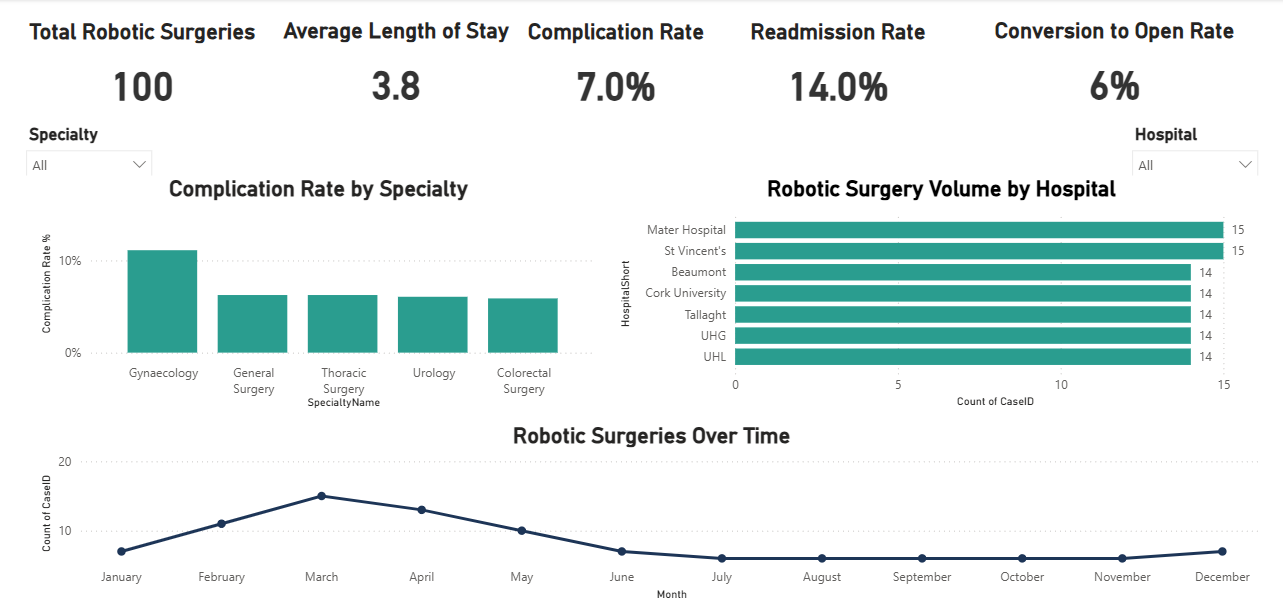

The dashboard page shown, as its layout file describes it:
{"tool":"powerbi","page":{"name":"Executive Overview","canvas":[1280,600],"ordinal":0},"visuals":[{"type":"advanceCardE03760C5AB684758B56AA29F9E6C257B","title":"Total Robotic Surgeries","fields":{"mainMeasure":["CountNonNull(robotic_surgery_dashboard_dataset.CaseID)"]},"box":[20.2,20.2,250.2,109.9],"z":0},{"type":"advanceCardE03760C5AB684758B56AA29F9E6C257B","title":"Average Length of Stay","fields":{"mainMeasure":["Avg(robotic_surgery_dashboard_dataset.LengthOfStayDays)"]},"box":[278.9,19,236.3,109.9],"z":1000},{"type":"advanceCardE03760C5AB684758B56AA29F9E6C257B","title":"Readmission Rate","fields":{"mainMeasure":["robotic_surgery_dashboard_dataset.Readmission Rate %"]},"box":[714.3,19.8,239.8,110],"z":2000},{"type":"advanceCardE03760C5AB684758B56AA29F9E6C257B","title":"Conversion to Open Rate","fields":{"mainMeasure":["robotic_surgery_dashboard_dataset.Conversion to Open Rate %"],"tooltipMeasures":["robotic_surgery_dashboard_dataset.Conversion to Open Rate %"]},"box":[936.2,18.8,343.8,110],"z":3000},{"type":"clusteredBarChart","title":"Robotic Surgery Volume by Hospital","fields":{"Y":["CountNonNull(robotic_surgery_dashboard_dataset.CaseID)"],"Category":["robotic_surgery_dashboard_dataset.HospitalShort"]},"box":[613,175,647,234],"z":4000},{"type":"clusteredColumnChart","title":"Complication Rate by Specialty","fields":{"Category":["robotic_surgery_dashboard_dataset.SpecialtyName"],"Y":["robotic_surgery_dashboard_dataset.Complication Rate %"]},"box":[40,175,560,235],"z":5000},{"type":"lineChart","title":"Robotic Surgeries Over Time","fields":{"Y":["CountNonNull(robotic_surgery_dashboard_dataset.CaseID)"],"Category":["robotic_surgery_dashboard_dataset.SurgeryDate.Variation.Date Hierarchy.Month"]},"box":[40,420,1220,180],"z":6000},{"type":"slicer","fields":{"Values":["robotic_surgery_dashboard_dataset.HospitalName"]},"box":[1115.6,118.8,145.3,55.6],"z":7000},{"type":"slicer","fields":{"Values":["robotic_surgery_dashboard_dataset.SpecialtyName"]},"box":[20.2,118.8,145.3,55.6],"z":8000},{"type":"advanceCardE03760C5AB684758B56AA29F9E6C257B","title":"Complication Rate","fields":{"mainMeasure":["robotic_surgery_dashboard_dataset.Complication Rate %"]},"box":[514.2,19.8,200.1,110],"z":9000}]}

Visuals, with their boxes in screenshot pixels (x1, y1, x2, y2), scaled from the page's 1280x600 canvas onto the 1283x601 screenshot:
"Total Robotic Surgeries" advanceCardE03760C5AB684758B56AA29F9E6C257B: 20,20,271,130
"Average Length of Stay" advanceCardE03760C5AB684758B56AA29F9E6C257B: 280,19,516,129
"Readmission Rate" advanceCardE03760C5AB684758B56AA29F9E6C257B: 716,20,956,130
"Conversion to Open Rate" advanceCardE03760C5AB684758B56AA29F9E6C257B: 938,19,1282,129
"Robotic Surgery Volume by Hospital" clusteredBarChart: 614,175,1263,410
"Complication Rate by Specialty" clusteredColumnChart: 40,175,601,411
"Robotic Surgeries Over Time" lineChart: 40,421,1263,600
slicer - robotic_surgery_dashboard_dataset.HospitalName: 1118,119,1264,175
slicer - robotic_surgery_dashboard_dataset.SpecialtyName: 20,119,166,175
"Complication Rate" advanceCardE03760C5AB684758B56AA29F9E6C257B: 515,20,716,130
